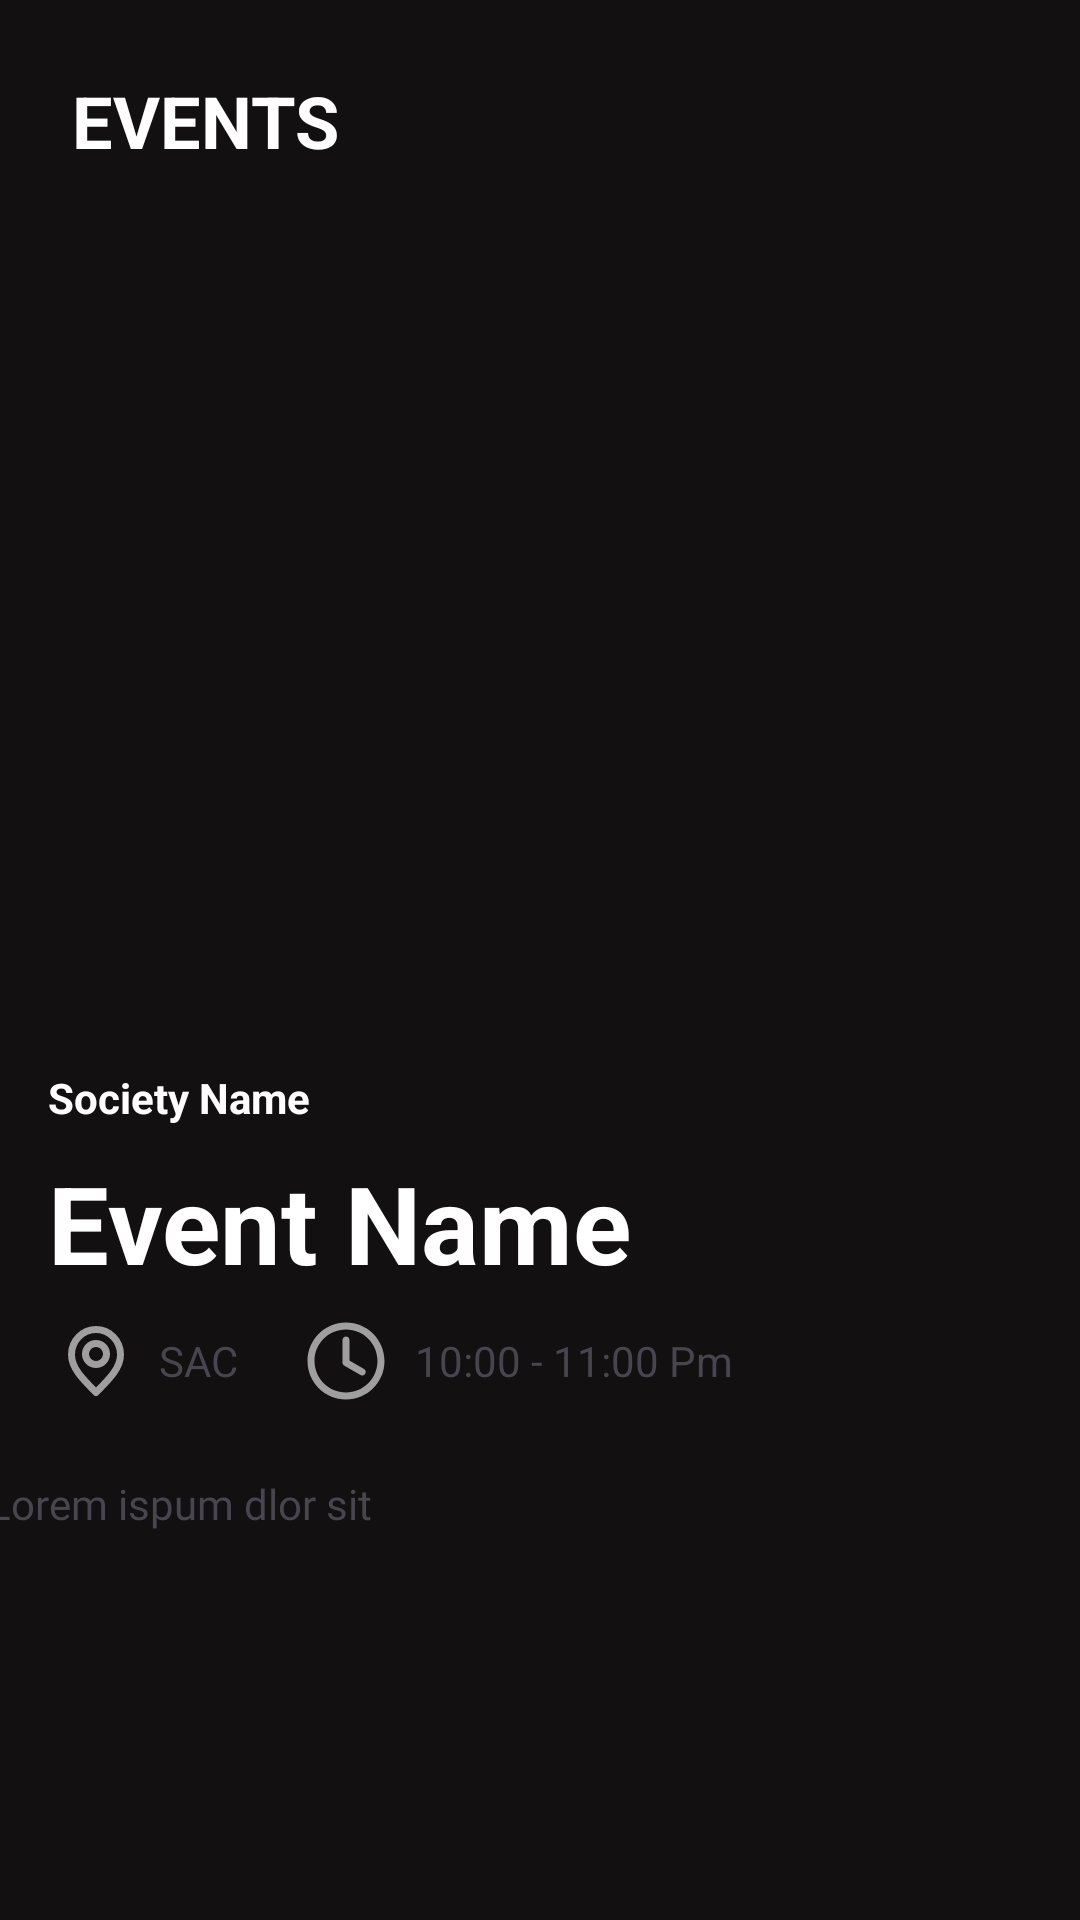

Where to tap for icons on this 1080w x 1920h app screen, as point (x, y):
location pin: point (96, 1361)
time: point (346, 1361)
